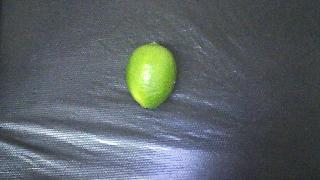LOCAL: (126, 43, 177, 108)
